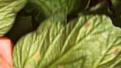Tomato mold leaf: (0, 0, 119, 68)
